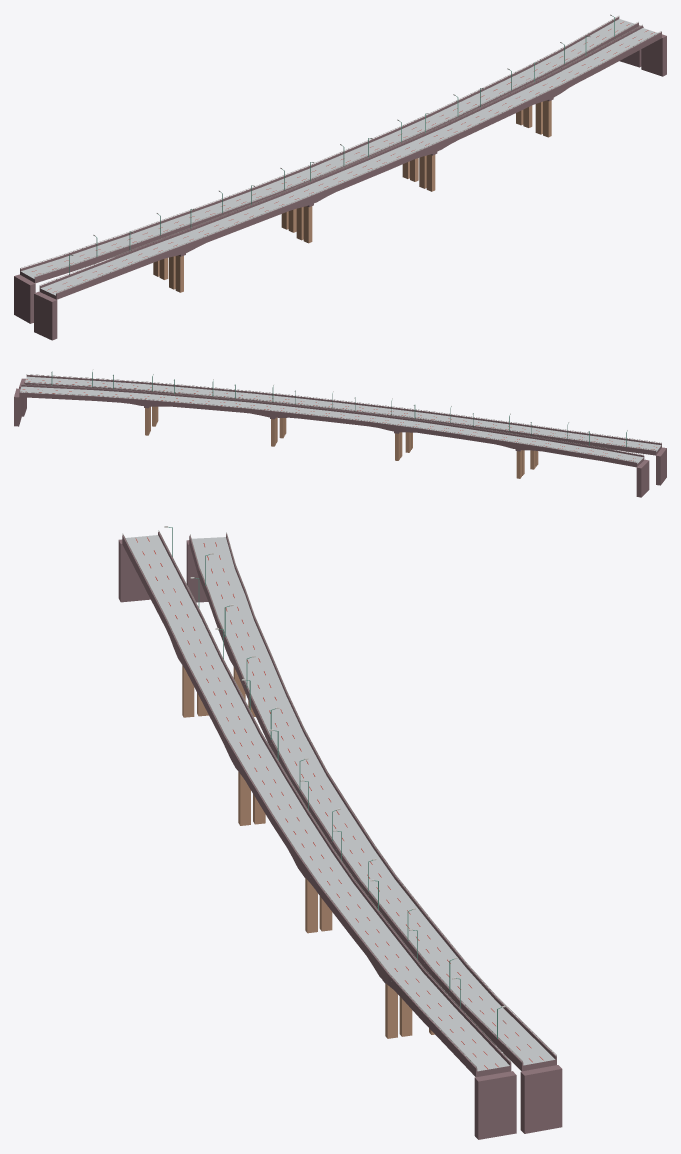
File: br_r12_james_macdonald.gltf
3 renders of one model, top to bottom at view 1: azimuth 30°, elevation 25°; view 2: azimuth 150°, elevation 25°; view 3: azimuth 270°, elevation 25°, orthographic. The views are drawn at different scales.
Visible parts, largest first — view 1: br_r12_james_macdonald; view 2: br_r12_james_macdonald; view 3: br_r12_james_macdonald.
Part boxes in pixels (x1=…): br_r12_james_macdonald: x1=14, y1=14, x2=666, y2=340; br_r12_james_macdonald: x1=14, y1=369, x2=666, y2=497; br_r12_james_macdonald: x1=118, y1=526, x2=562, y2=1139.
Size of the model in its own units: 377 by 33.79 by 130.
